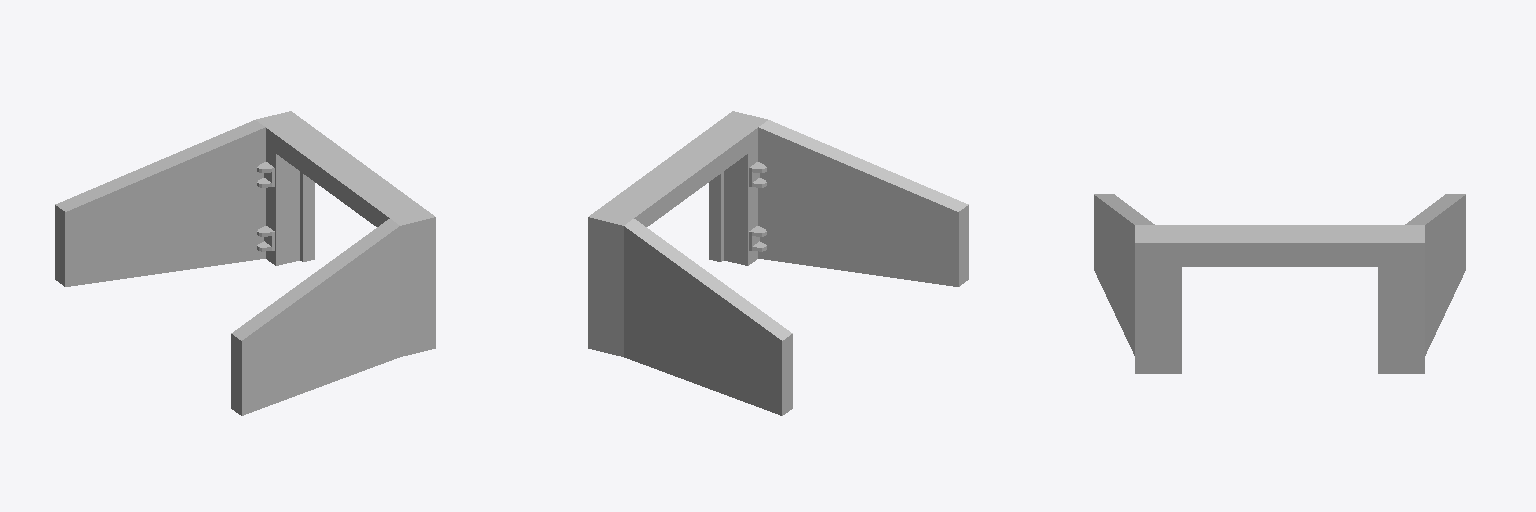
File: BunkerFrame.obj
The picture shows the model from 3 angles: view 1: azimuth 30°, elevation 25°; view 2: azimuth 150°, elevation 25°; view 3: azimuth 270°, elevation 25°; orthographic projection.
Visible parts, largest first — view 1: Hermetic_Extrerior_Cube.044; view 2: Hermetic_Extrerior_Cube.044; view 3: Hermetic_Extrerior_Cube.044.
Boxes of the visible parts, x1,y1,x2,y2 form: Hermetic_Extrerior_Cube.044: [55, 111, 435, 415]; Hermetic_Extrerior_Cube.044: [588, 111, 968, 415]; Hermetic_Extrerior_Cube.044: [1094, 194, 1465, 373].
Bounding box in the file's own units: 7.13 × 4.16 × 10.7.